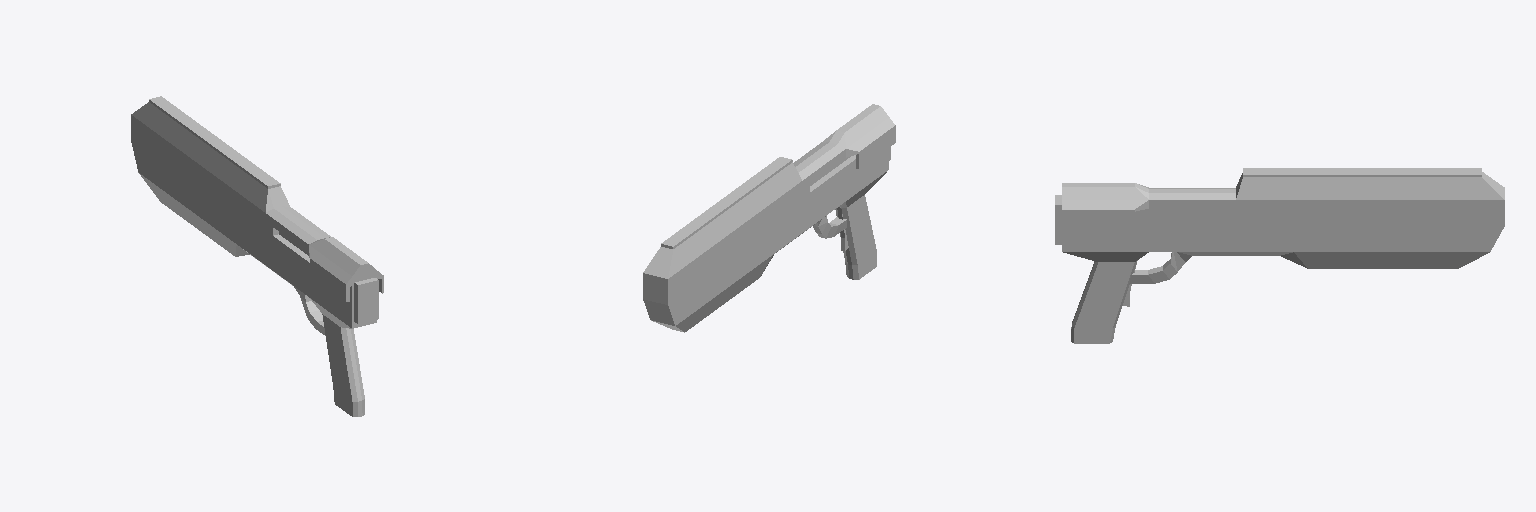
Rendered from FSR-SIII-Body.obj.
The picture shows the model from 3 angles: view 1: azimuth 30°, elevation 25°; view 2: azimuth 150°, elevation 25°; view 3: azimuth 270°, elevation 25°; orthographic projection.
Parts seen in each view (by area): view 1: FSR-SIII-Body; view 2: FSR-SIII-Body; view 3: FSR-SIII-Body.
Part boxes in pixels (x1,y1,x2,y2): FSR-SIII-Body: (131, 96, 383, 416); FSR-SIII-Body: (643, 104, 895, 332); FSR-SIII-Body: (1055, 168, 1504, 343).
Bounding box in the file's own units: 0.3 × 1.29 × 3.11.